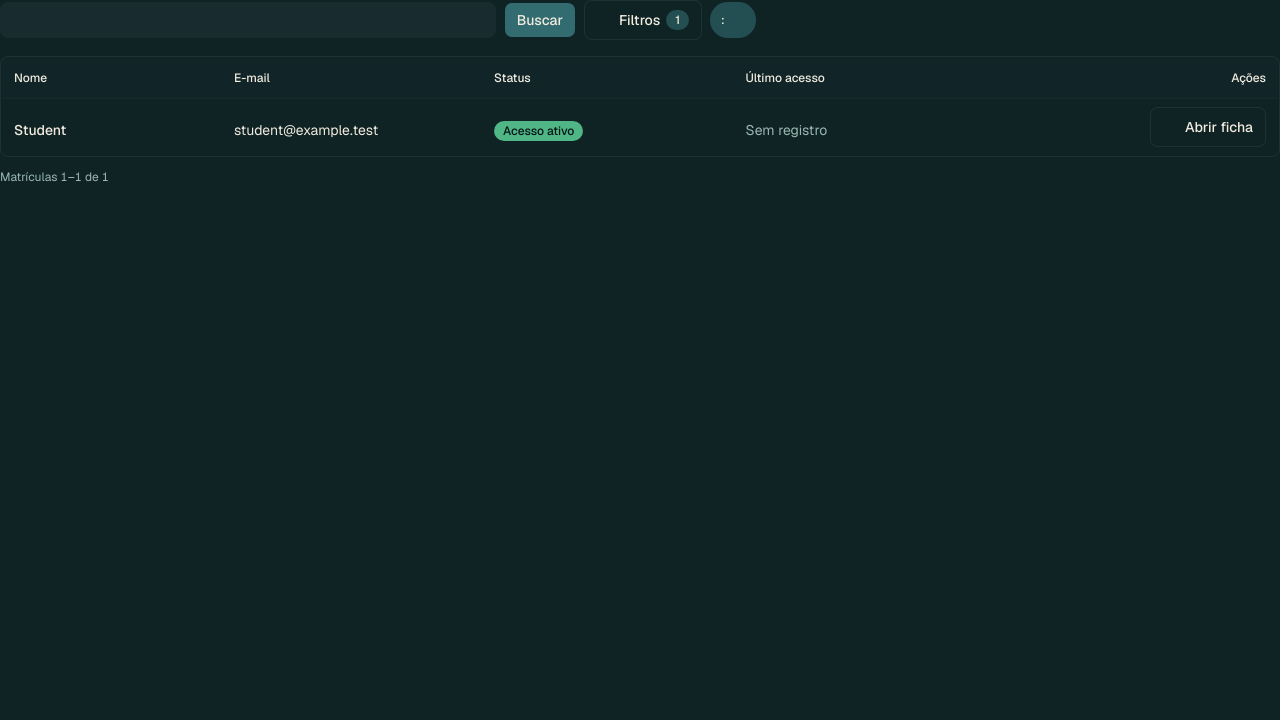
Test: StudentsTable action scope › does not advertise platform mutations to read-only operators
This screenshot has width=1280, height=720.
Click the button with aria-label "Abrir ficha de Student" at x=1208, y=126, box 1150,106 -> 1266,146
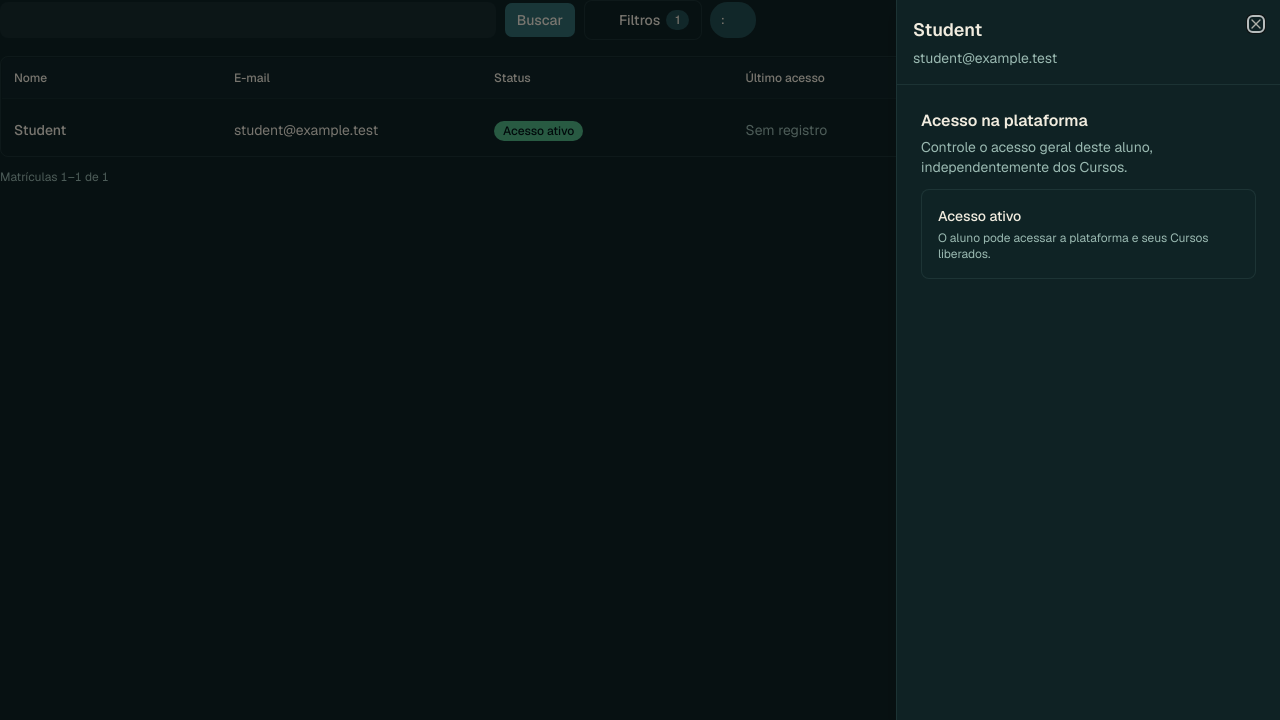
Check: the text "Acesso na plataforma" is shown, box 921,109 -> 1088,133
